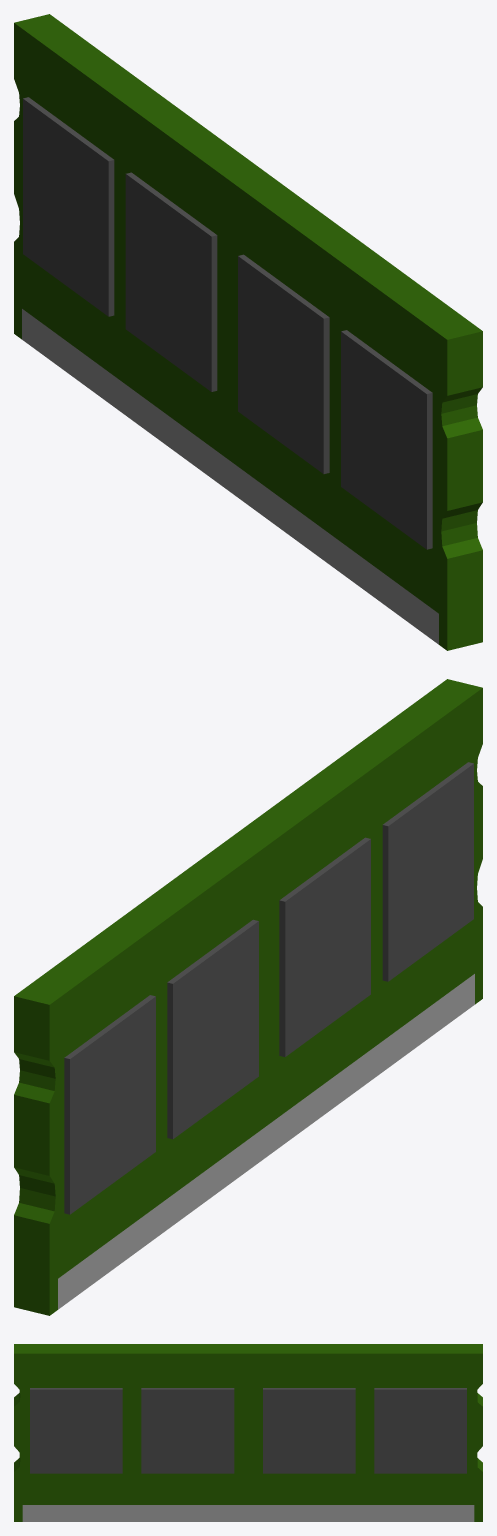
Rendered from GEO_RamRampSHORT.fbx.
3 renders of one model, top to bottom at view 1: azimuth 30°, elevation 25°; view 2: azimuth 150°, elevation 25°; view 3: azimuth 270°, elevation 25°, orthographic. The views are drawn at different scales.
Parts seen in each view (by area): view 1: RamBase, RamStorage; view 2: RamBase, RamStorage; view 3: RamBase, RamStorage.
Boxes of the visible parts, bbox=[...] form: RamBase: bbox=[14, 14, 482, 650]; RamStorage: bbox=[23, 97, 432, 549]; RamBase: bbox=[14, 679, 482, 1315]; RamStorage: bbox=[64, 762, 473, 1214]; RamBase: bbox=[14, 1344, 482, 1521]; RamStorage: bbox=[30, 1388, 466, 1473].
Size of the model in its own units: 0.1589 by 1 by 2.52.
